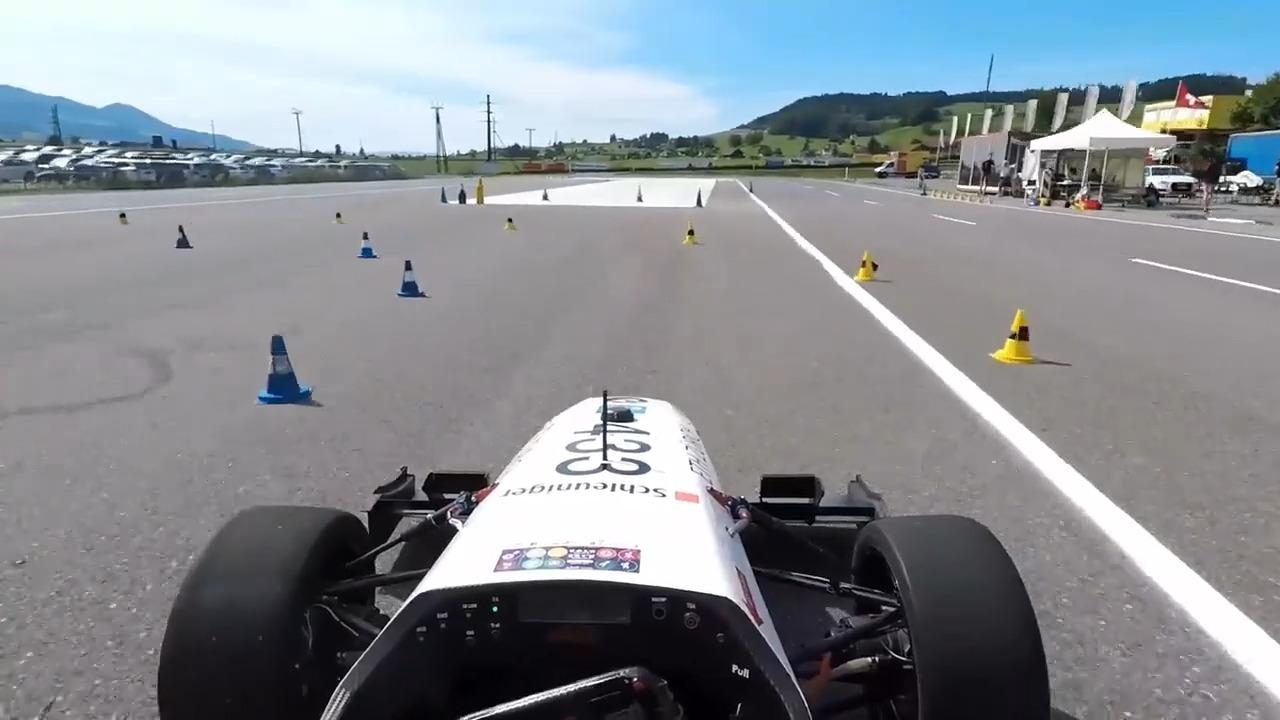blue_cone: (258, 334, 313, 407), (396, 259, 426, 298), (356, 231, 380, 259), (175, 225, 194, 250)
yellow_cone: (987, 308, 1039, 366), (854, 250, 879, 282), (682, 221, 701, 246)
